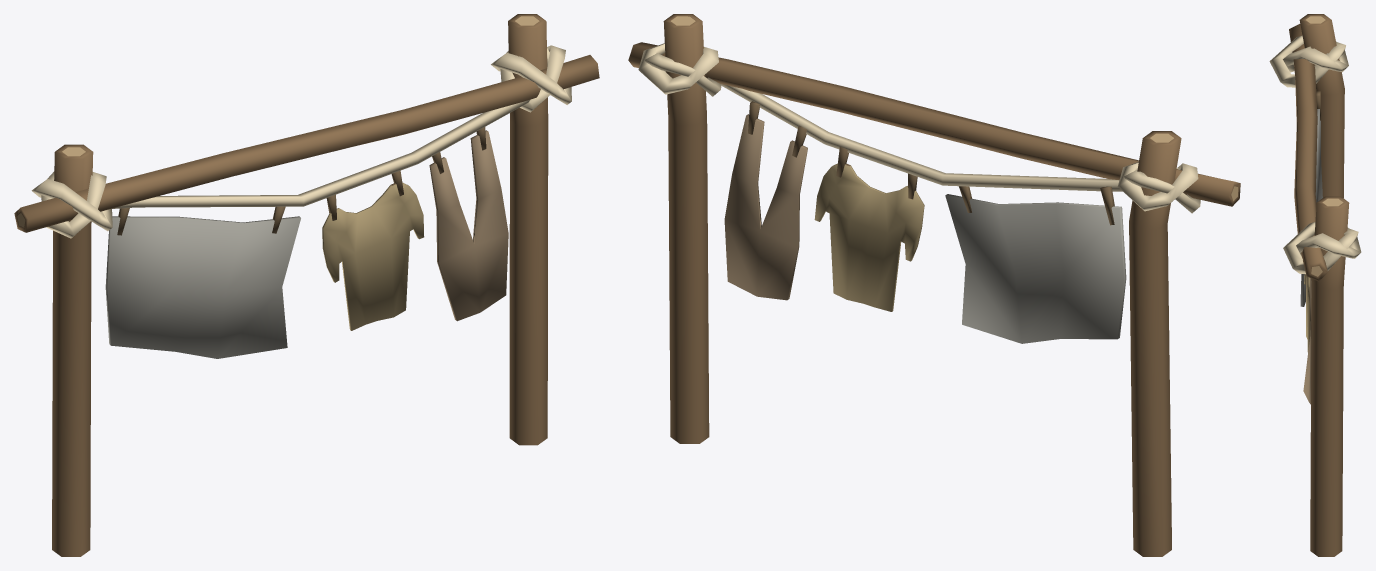
The model's file is rpgpp_ag_hanger_wood_01b.fbx.
The picture shows the model from 3 angles, left to right: view 1: azimuth 30°, elevation 25°; view 2: azimuth 150°, elevation 25°; view 3: azimuth 270°, elevation 25°; orthographic projection. The views are drawn at different scales.
Parts seen in each view (by area): view 1: rpgpp_ag_hanger_wood_01b; view 2: rpgpp_ag_hanger_wood_01b; view 3: rpgpp_ag_hanger_wood_01b.
Part boxes in pixels (x1,y1,x2,y2): rpgpp_ag_hanger_wood_01b: (14,14,599,556); rpgpp_ag_hanger_wood_01b: (628,14,1240,556); rpgpp_ag_hanger_wood_01b: (1269,14,1361,556).
Size of the model in its own units: 3.3 by 2.23 by 0.5323.
